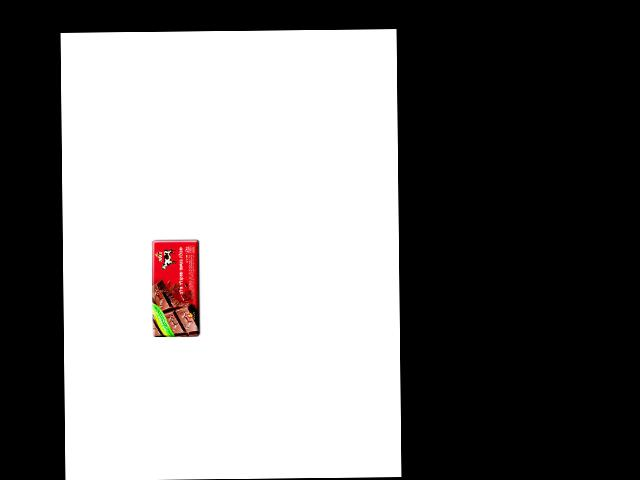chocolate: (150, 236, 204, 337)
